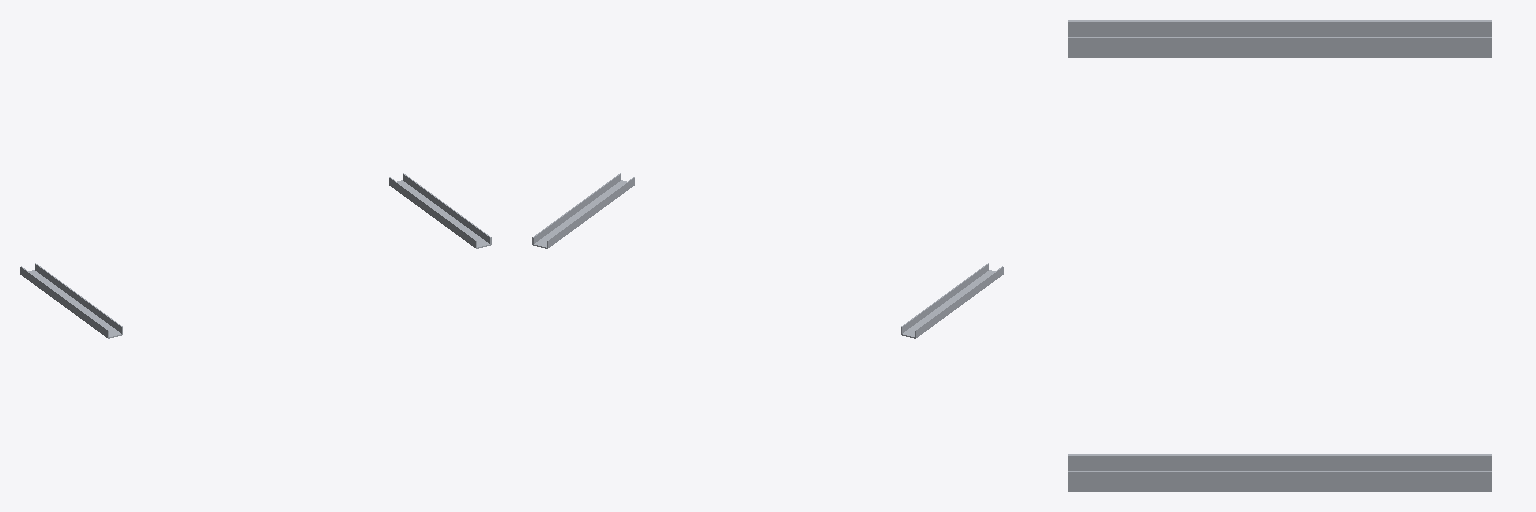
The robot description file, URDF, robot "robot_art_single_layer":
<?xml version="1.0" ?>
<!-- =================================================================================== -->
<!-- |    This document was autogenerated by xacro from single_layer.urdf.xacro        | -->
<!-- |    EDITING THIS FILE BY HAND IS NOT RECOMMENDED                                 | -->
<!-- =================================================================================== -->
<!--
  ELE408 Robot Art - ONE LAYER, matching RobotArtLayer_assembly.step part for part (v3).
  Links (STEP component in brackets):
    bar_above    [Bar200_above]      fixed to the world, where the STEP file has it
    clampA       [ClampA_link]       clamp A + 608 bearing                      joint clampA  : fixed
    motor        [Motor_link]        carriage + cage + pin + encoder + NEMA 17  joint pivot   : continuous, TOP PIVOT (passive bearing)
    support_bar  [Support500_link]   500 mm bar + ball units                    joint support : prismatic along X (passive slide)
    hub          [Hub_link]          flange coupler + clamp B / drive hub       joint joint   : continuous, BOTTOM PIVOT, driven
    next_bar     [NextBar200_reference]                                         joint clampB  : prismatic, radius 0.03-0.17 m
    track_L / track_R [Tracks_frame_reference]   U-channel tracks fixed to the world
  With the bar above fixed, pivot and support both stay at 0 (the motor doesn't move).
  Units m, kg, rad. Meshes are in mm and scaled by 0.001.
  Radius = rest_radius + clampB value (rest_radius is 0 for ROS, 0.07 for the Godot files).
  Build:  xacro single_layer.urdf.xacro > single_layer.urdf
-->
<robot name="robot_art_single_layer">
  <!-- carriage (40 mm) can run until it meets a ball unit -->
  <material name="orange">
    <color rgba="0.88 0.54 0.12 1"/>
  </material>
  <material name="alu">
    <color rgba="0.75 0.77 0.80 1"/>
  </material>
  <material name="dark">
    <color rgba="0.25 0.27 0.30 1"/>
  </material>
  <material name="red">
    <color rgba="0.8 0.1 0.1 1"/>
  </material>
  <material name="steel">
    <color rgba="0.55 0.57 0.60 1"/>
  </material>
  <link name="world"/>
  <joint name="bar_above_fixed" type="fixed">
    <parent link="world"/>
    <child link="bar_above"/>
    <origin xyz="0.49935 0.02633 0.08136"/>
  </joint>
  <link name="bar_above">
    <visual>
      <geometry>
        <mesh filename="package://robot_art_layer/meshes/bar.stl" scale="0.001 0.001 0.001"/>
      </geometry>
      <material name="alu"/>
    </visual>
    <collision>
      <origin xyz="0 0.086 0"/>
      <geometry>
        <box size="0.02 0.2 0.02"/>
      </geometry>
    </collision>
    <inertial>
      <origin xyz="-0.00000 0.08600 0.00000"/>
      <mass value="0.1000"/>
      <inertia ixx="3.3741e-04" ixy="-8.6845e-21" ixz="-3.3719e-10" iyy="8.1483e-06" iyz="-3.5730e-21" izz="3.3741e-04"/>
    </inertial>
  </link>
  <joint name="clampA" type="fixed">
    <parent link="bar_above"/>
    <child link="clampA"/>
    <origin xyz="0 0 0"/>
  </joint>
  <link name="clampA">
    <visual>
      <geometry>
        <mesh filename="package://robot_art_layer/meshes/clampA.stl" scale="0.001 0.001 0.001"/>
      </geometry>
      <material name="orange"/>
    </visual>
    <collision>
      <geometry>
        <box size="0.040 0.028 0.0284"/>
      </geometry>
    </collision>
    <collision>
      <origin xyz="0 0 -0.0207"/>
      <geometry>
        <cylinder length="0.013" radius="0.015"/>
      </geometry>
    </collision>
    <inertial>
      <origin xyz="-0.00011 0.00000 -0.01275"/>
      <mass value="0.0280"/>
      <inertia ixx="6.2275e-06" ixy="-7.0054e-12" ixz="3.6730e-08" iyy="7.7408e-06" iyz="6.4456e-10" izz="4.3962e-06"/>
    </inertial>
  </link>
  <!-- TOP PIVOT: 608 bearing, 23.7 mm below the bar centre line (passive) -->
  <joint name="pivot" type="continuous">
    <parent link="clampA"/>
    <child link="motor"/>
    <origin xyz="0 0 -0.0237"/>
    <axis xyz="0 0 1"/>
    <limit effort="0" velocity="10"/>
    <dynamics damping="0.0" friction="0.002"/>
  </joint>
  <link name="motor">
    <visual>
      <geometry>
        <mesh filename="package://robot_art_layer/meshes/motor.stl" scale="0.001 0.001 0.001"/>
      </geometry>
      <material name="dark"/>
    </visual>
    <collision>
      <origin xyz="0 0 -0.0237"/>
      <geometry>
        <box size="0.040 0.028 0.0304"/>
      </geometry>
    </collision>
    <collision>
      <origin xyz="0 0 -0.0594"/>
      <geometry>
        <box size="0.0543 0.0543 0.041"/>
      </geometry>
    </collision>
    <inertial>
      <origin xyz="0.00009 -0.00000 -0.05783"/>
      <mass value="0.2011"/>
      <inertia ixx="9.6019e-05" ixy="-3.2819e-11" ixz="5.4181e-09" iyy="9.6824e-05" iyz="-4.1809e-09" izz="5.7848e-05"/>
    </inertial>
  </link>
  <joint name="support" type="prismatic">
    <parent link="motor"/>
    <child link="support_bar"/>
    <origin xyz="0 0 0"/>
    <axis xyz="1 0 0"/>
    <!-- value + back = support bar centre minus carriage centre, along the bar. Passive (effort 0). -->
    <limit effort="0" lower="-0.214" upper="0.214" velocity="1.0"/>
    <dynamics damping="0.0" friction="0.5"/>
  </joint>
  <link name="support_bar">
    <visual>
      <geometry>
        <mesh filename="package://robot_art_layer/meshes/support.stl" scale="0.001 0.001 0.001"/>
      </geometry>
      <material name="steel"/>
    </visual>
    <collision>
      <origin xyz="0 0 -0.0247"/>
      <geometry>
        <box size="0.50 0.02 0.02"/>
      </geometry>
    </collision>
    <collision>
      <origin xyz="-0.242 0 -0.0387"/>
      <geometry>
        <cylinder length="0.008" radius="0.008"/>
      </geometry>
    </collision>
    <collision>
      <origin xyz="0.242 0 -0.0387"/>
      <geometry>
        <cylinder length="0.008" radius="0.008"/>
      </geometry>
    </collision>
    <inertial>
      <origin xyz="0 0 -0.02559"/>
      <mass value="0.2660"/>
      <inertia ixx="2.4046e-05" ixy="0" ixz="0" iyy="6.1592e-03" iyz="0" izz="6.1560e-03"/>
    </inertial>
  </link>
  <joint name="encoder_mount" type="fixed">
    <parent link="motor"/>
    <child link="encoder"/>
    <origin xyz="0 0 -0.0479"/>
  </joint>
  <link name="encoder">
    <inertial>
      <mass value="0.001"/>
      <inertia ixx="1e-9" ixy="0" ixz="0" iyy="1e-9" iyz="0" izz="1e-9"/>
    </inertial>
  </link>
  <!-- BOTTOM PIVOT: motor front face, 75.9 mm below the top pivot, driven by the NEMA 17 -->
  <joint name="joint" type="continuous">
    <parent link="motor"/>
    <child link="hub"/>
    <origin xyz="0 0 -0.0759"/>
    <axis xyz="0 0 1"/>
    <limit effort="0.13" velocity="1.0"/>
    <dynamics damping="0.0"/>
  </joint>
  <link name="hub">
    <visual>
      <geometry>
        <mesh filename="package://robot_art_layer/meshes/hub.stl" scale="0.001 0.001 0.001"/>
      </geometry>
      <material name="orange"/>
    </visual>
    <collision>
      <origin xyz="0 0 -0.0135"/>
      <geometry>
        <cylinder length="0.018" radius="0.011"/>
      </geometry>
    </collision>
    <collision>
      <origin xyz="0 0 -0.0367"/>
      <geometry>
        <box size="0.040 0.028 0.0284"/>
      </geometry>
    </collision>
    <inertial>
      <origin xyz="-0.00000 0.00004 -0.02232"/>
      <mass value="0.0208"/>
      <inertia ixx="5.9366e-06" ixy="3.9488e-16" ixz="-1.5550e-12" iyy="6.2704e-06" iyz="1.3147e-08" izz="2.9028e-06"/>
    </inertial>
  </link>
  <!-- CLAMP B: the next 200 mm bar slides through it along X; value = radius (STEP file shows 0.07) -->
  <joint name="clampB" type="prismatic">
    <parent link="hub"/>
    <child link="next_bar"/>
    <origin rpy="0 0 1.5707963267948966" xyz="0.0 0 -0.0367"/>
    <axis xyz="0 -1 0"/>
    <limit effort="20" lower="0.03" upper="0.17" velocity="0.05"/>
    <dynamics damping="0.5"/>
  </joint>
  <link name="next_bar">
    <visual>
      <geometry>
        <mesh filename="package://robot_art_layer/meshes/bar.stl" scale="0.001 0.001 0.001"/>
      </geometry>
      <material name="alu"/>
    </visual>
    <collision>
      <origin xyz="0 0.086 0"/>
      <geometry>
        <box size="0.02 0.2 0.02"/>
      </geometry>
    </collision>
    <inertial>
      <origin xyz="-0.00000 0.08600 0.00000"/>
      <mass value="0.1000"/>
      <inertia ixx="3.3741e-04" ixy="-8.6845e-21" ixz="-3.3719e-10" iyy="8.1483e-06" iyz="-3.5730e-21" izz="3.3741e-04"/>
    </inertial>
  </link>
  <joint name="track_L_fixed" type="fixed">
    <parent link="world"/>
    <child link="track_L"/>
    <origin xyz="0.25735 0.02633 0.009960000000000004"/>
  </joint>
  <link name="track_L">
    <visual>
      <origin xyz="0 0 -0.00075"/>
      <geometry>
        <box size="0.020 0.2 0.0015"/>
      </geometry>
      <material name="alu"/>
    </visual>
    <visual>
      <origin xyz="-0.00925 0 0.0035"/>
      <geometry>
        <box size="0.0015 0.2 0.010"/>
      </geometry>
      <material name="alu"/>
    </visual>
    <visual>
      <origin xyz="0.00925 0 0.0035"/>
      <geometry>
        <box size="0.0015 0.2 0.010"/>
      </geometry>
      <material name="alu"/>
    </visual>
  </link>
  <joint name="track_R_fixed" type="fixed">
    <parent link="world"/>
    <child link="track_R"/>
    <origin xyz="0.74135 0.02633 0.009960000000000004"/>
  </joint>
  <link name="track_R">
    <visual>
      <origin xyz="0 0 -0.00075"/>
      <geometry>
        <box size="0.020 0.2 0.0015"/>
      </geometry>
      <material name="alu"/>
    </visual>
    <visual>
      <origin xyz="-0.00925 0 0.0035"/>
      <geometry>
        <box size="0.0015 0.2 0.010"/>
      </geometry>
      <material name="alu"/>
    </visual>
    <visual>
      <origin xyz="0.00925 0 0.0035"/>
      <geometry>
        <box size="0.0015 0.2 0.010"/>
      </geometry>
      <material name="alu"/>
    </visual>
  </link>
</robot>

--- What the picture shows (computed from the rendered views, not written in the file) ---
The picture shows the robot from 3 angles, left to right: view 1: azimuth 30°, elevation 25°; view 2: azimuth 150°, elevation 25°; view 3: azimuth 270°, elevation 25°; orthographic projection.
Robot: robot_art_single_layer — 10 links, 9 joints (2 continuous, 2 prismatic, 5 fixed); root link world; default pose: joints at zero except 1 at the middle of their limits (clampB = 0.1).
Links seen in each view (by area): view 1: track_L, track_R; view 2: track_L, track_R; view 3: track_L, track_R.
Boxes of the visible links, x1=… form: track_L: x1=20, y1=263, x2=122, y2=338; track_R: x1=389, y1=173, x2=491, y2=248; track_L: x1=901, y1=263, x2=1003, y2=338; track_R: x1=532, y1=173, x2=634, y2=248; track_L: x1=1068, y1=20, x2=1491, y2=57; track_R: x1=1068, y1=454, x2=1491, y2=491.
Size in the robot's own frame: 0.504 by 0.2 by 0.01 metres.
Meshes: 5 distinct files referenced, 0 mesh visuals loaded (none loaded); not drawn: 6 (reference not matched to a file when rendering).
